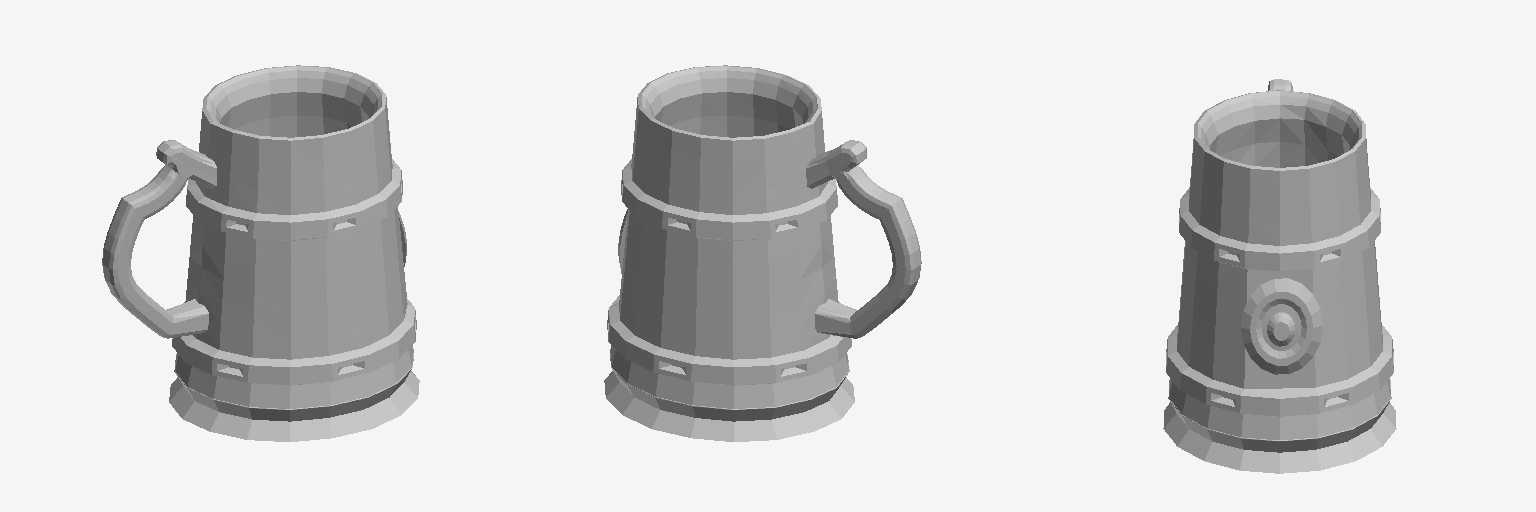
The model's file is Beer mug.obj.
3 renders of one model, left to right at view 1: azimuth 30°, elevation 25°; view 2: azimuth 150°, elevation 25°; view 3: azimuth 270°, elevation 25°, orthographic.
Visible parts, largest first — view 1: Medieval_Tankard_Cylinder002; view 2: Medieval_Tankard_Cylinder002; view 3: Medieval_Tankard_Cylinder002.
Part boxes in pixels (x1,y1,x2,y2): Medieval_Tankard_Cylinder002: (102, 65, 419, 441); Medieval_Tankard_Cylinder002: (604, 65, 921, 441); Medieval_Tankard_Cylinder002: (1163, 79, 1396, 473).
Size of the model in its own units: 49.13 by 45.51 by 33.07.